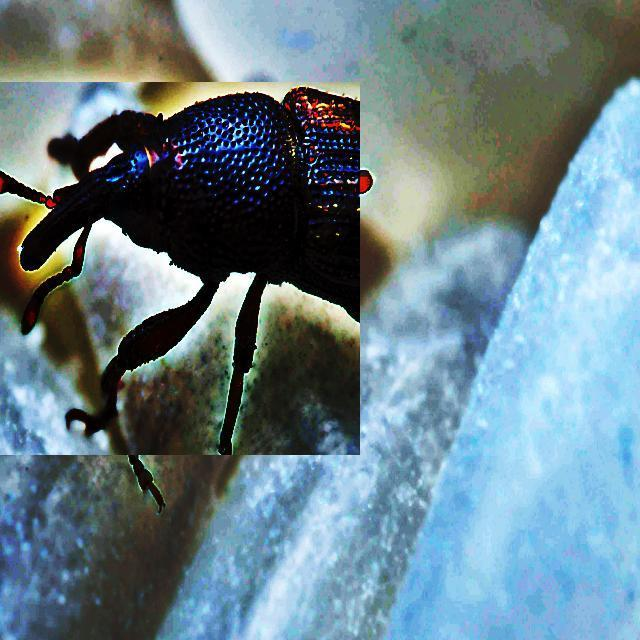rice-bug: (0, 82, 360, 455)
